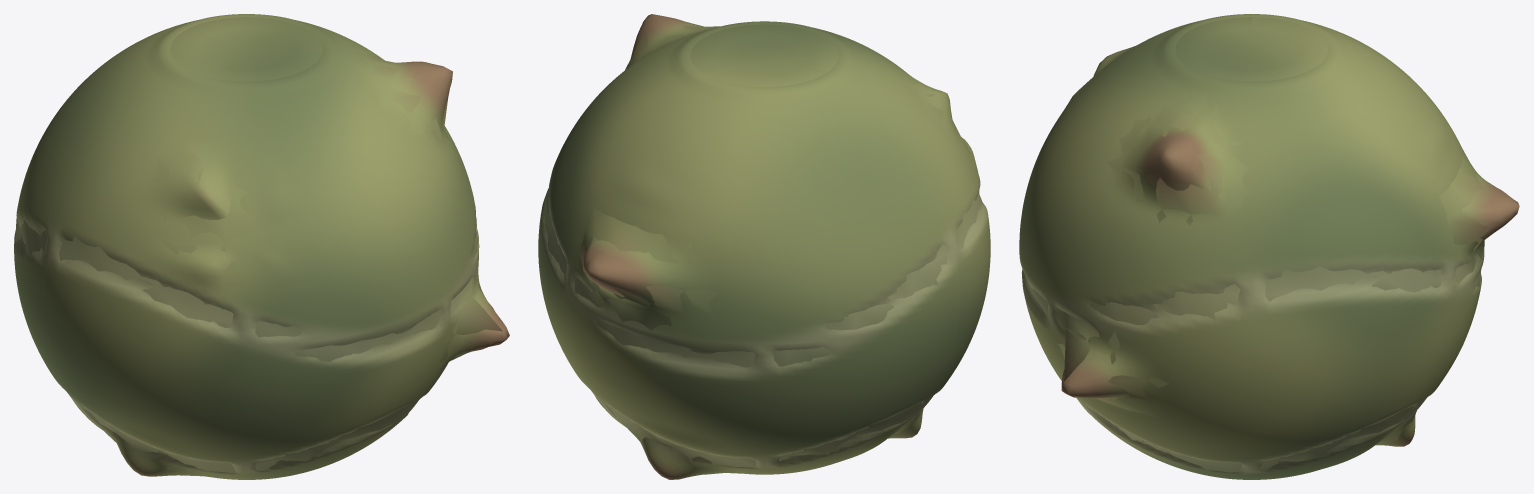
Rendered from solstice.glb.
3 renders of one model, left to right at view 1: azimuth 30°, elevation 25°; view 2: azimuth 150°, elevation 25°; view 3: azimuth 270°, elevation 25°, orthographic. The views are drawn at different scales.
Parts seen in each view (by area): view 1: Sculpted_solstice_Full, Sculpted_solstice_Distant; view 2: Sculpted_solstice_Full, Sculpted_solstice_Distant; view 3: Sculpted_solstice_Full, Sculpted_solstice_Distant.
Boxes of the visible parts, bbox=[...] form: Sculpted_solstice_Full: bbox=[14, 14, 509, 479]; Sculpted_solstice_Distant: bbox=[15, 17, 502, 477]; Sculpted_solstice_Full: bbox=[538, 14, 990, 479]; Sculpted_solstice_Distant: bbox=[545, 22, 983, 473]; Sculpted_solstice_Full: bbox=[1019, 14, 1519, 479]; Sculpted_solstice_Distant: bbox=[1026, 17, 1490, 472].
Bounding box in the file's own units: 164 × 159 × 176.
